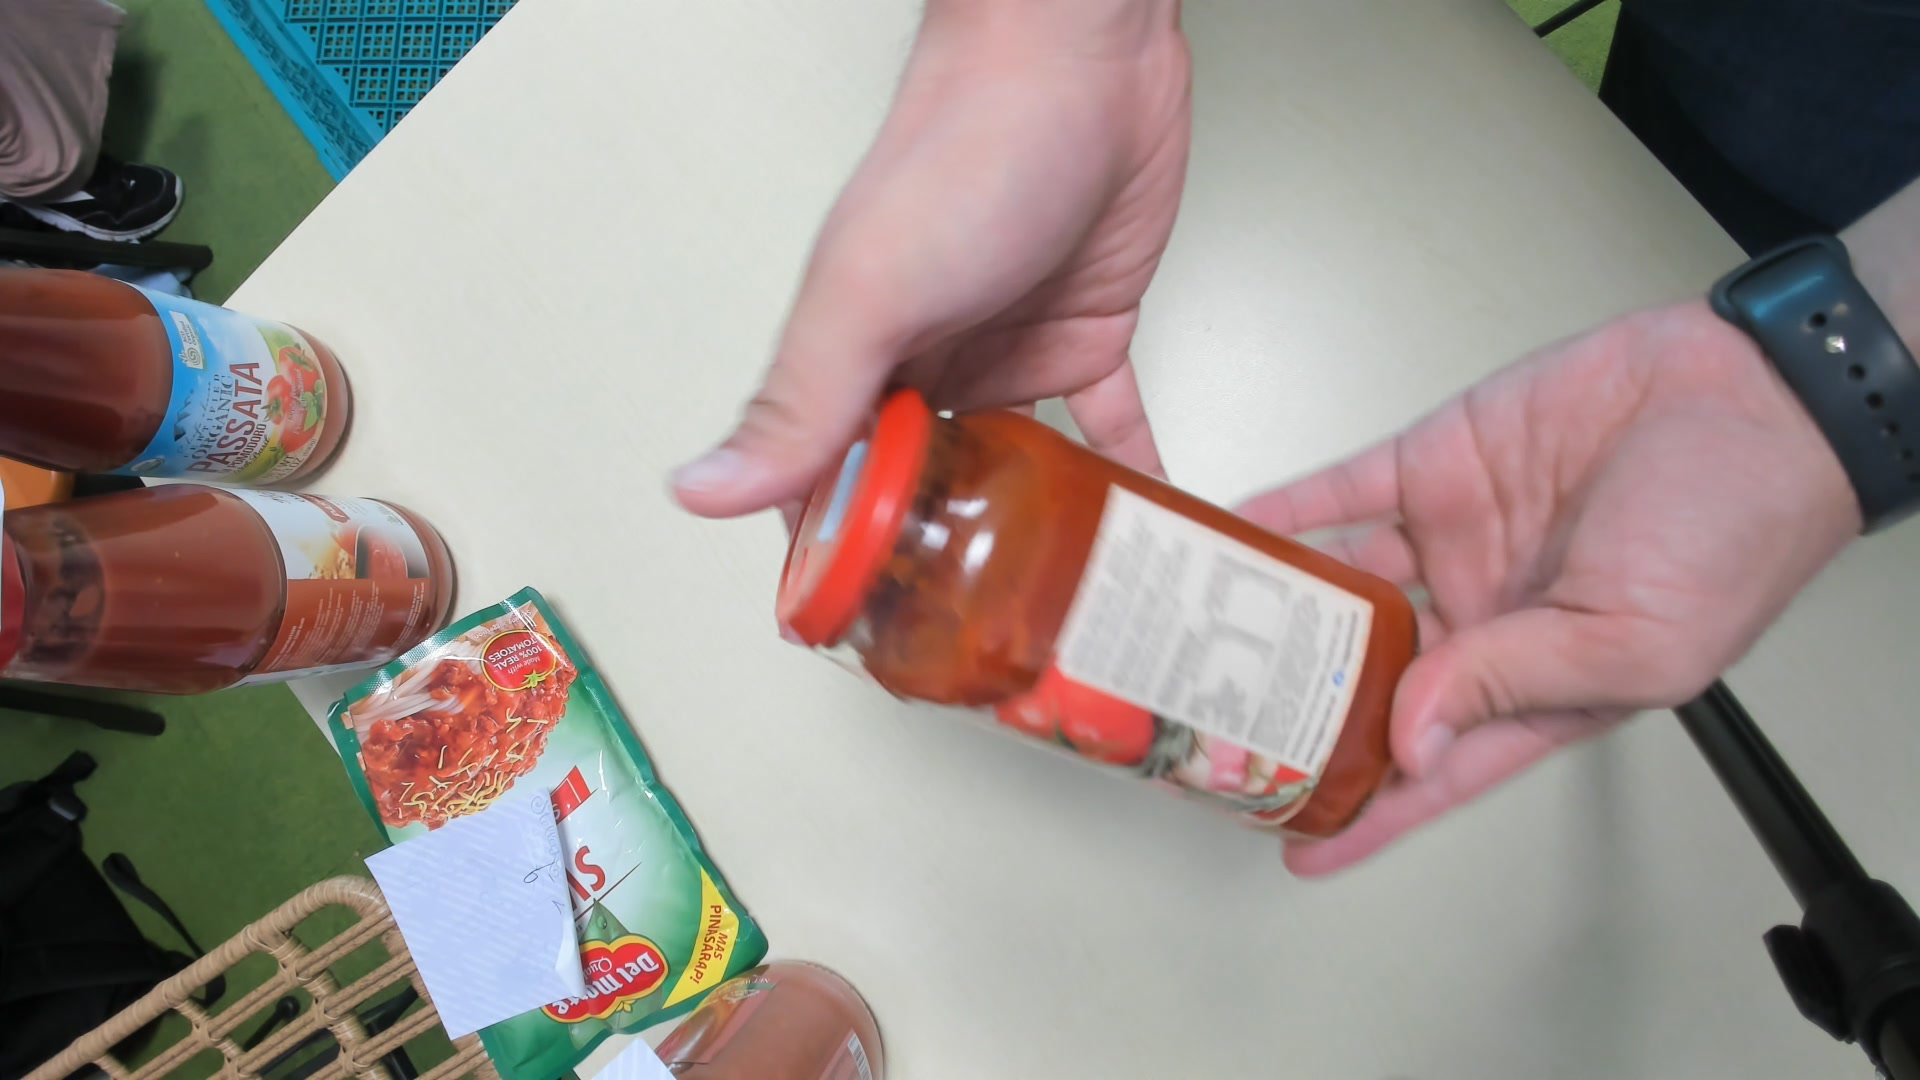PastaSauce_500-599g_Halal_NonHealthy: (778, 400, 1416, 828)
